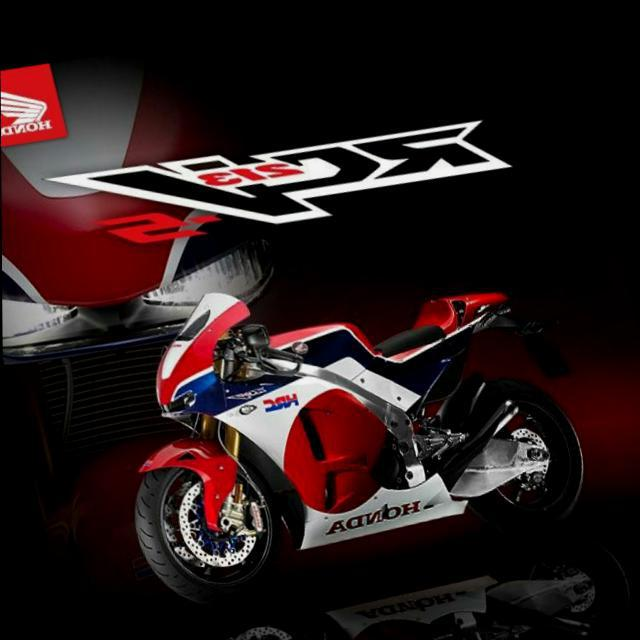HRC RCV 213: (80, 197, 605, 639)
